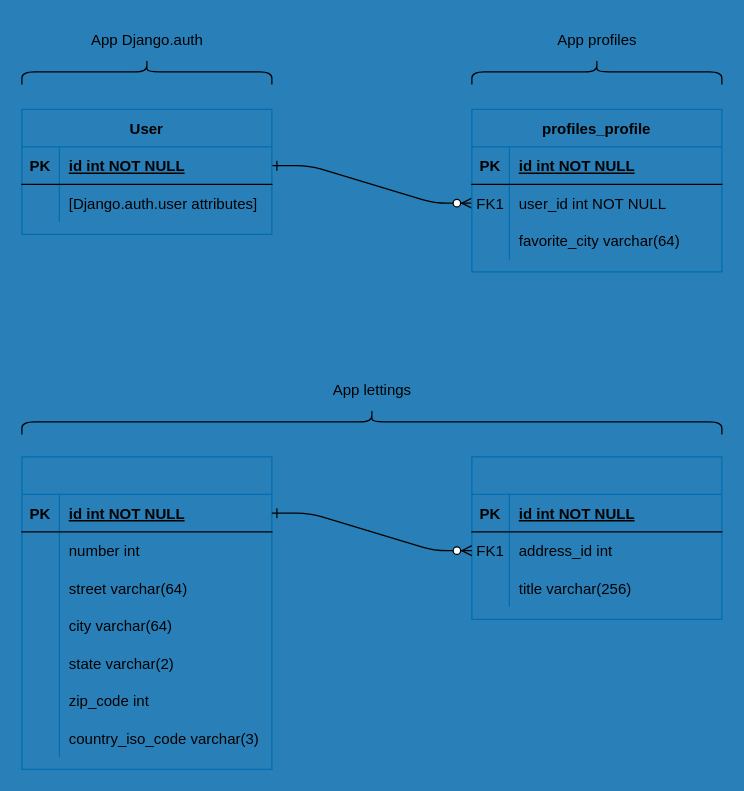
The diagram is 744 pixels wide and 791 high, and some of its shapes have lost their labels. The shapes that lost their labels are listed below. From the top down, each one's box as (x1, y1, x2, y2) in pixels, then its label:
(471, 456, 722, 619): lettings_letting
(21, 456, 272, 769): lettings_address
